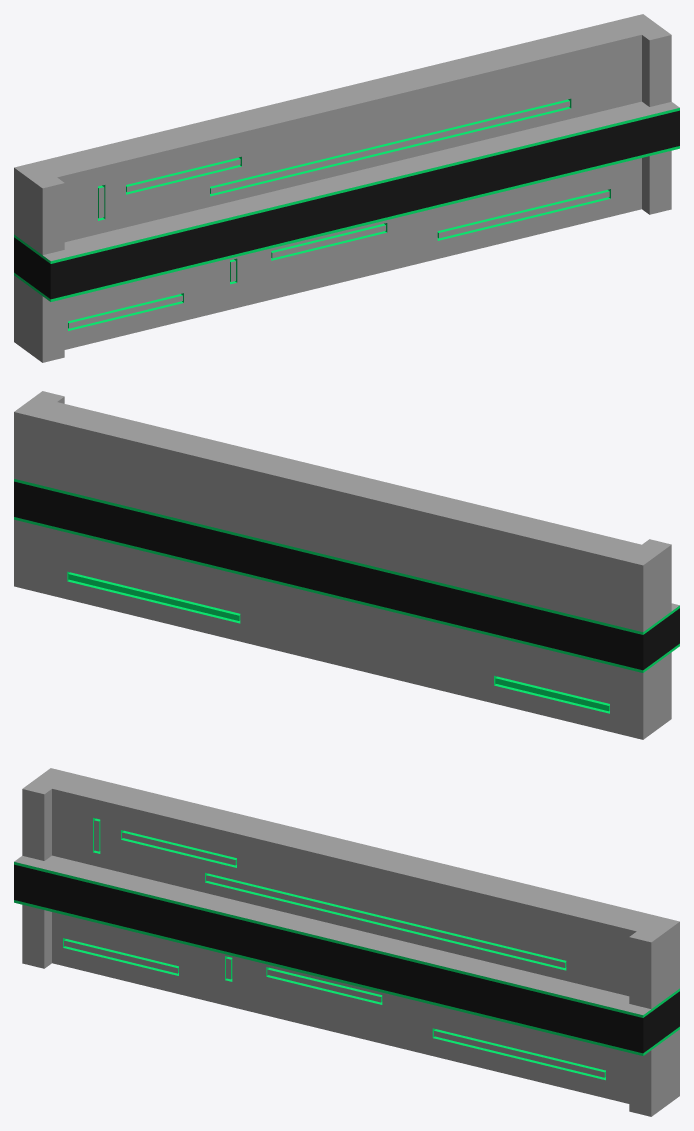
File: Wall3.fbx
3 renders of one model, top to bottom at view 1: azimuth 30°, elevation 25°; view 2: azimuth 150°, elevation 25°; view 3: azimuth 330°, elevation 25°, orthographic.
Visible parts, largest first — view 1: Wall3; view 2: Wall3; view 3: Wall3.
Part boxes in pixels (x1,y1,x2,y2): Wall3: (14, 14, 679, 362); Wall3: (14, 391, 679, 739); Wall3: (14, 768, 679, 1116).
Bounding box in the file's own units: 5664 × 1501 × 574.
